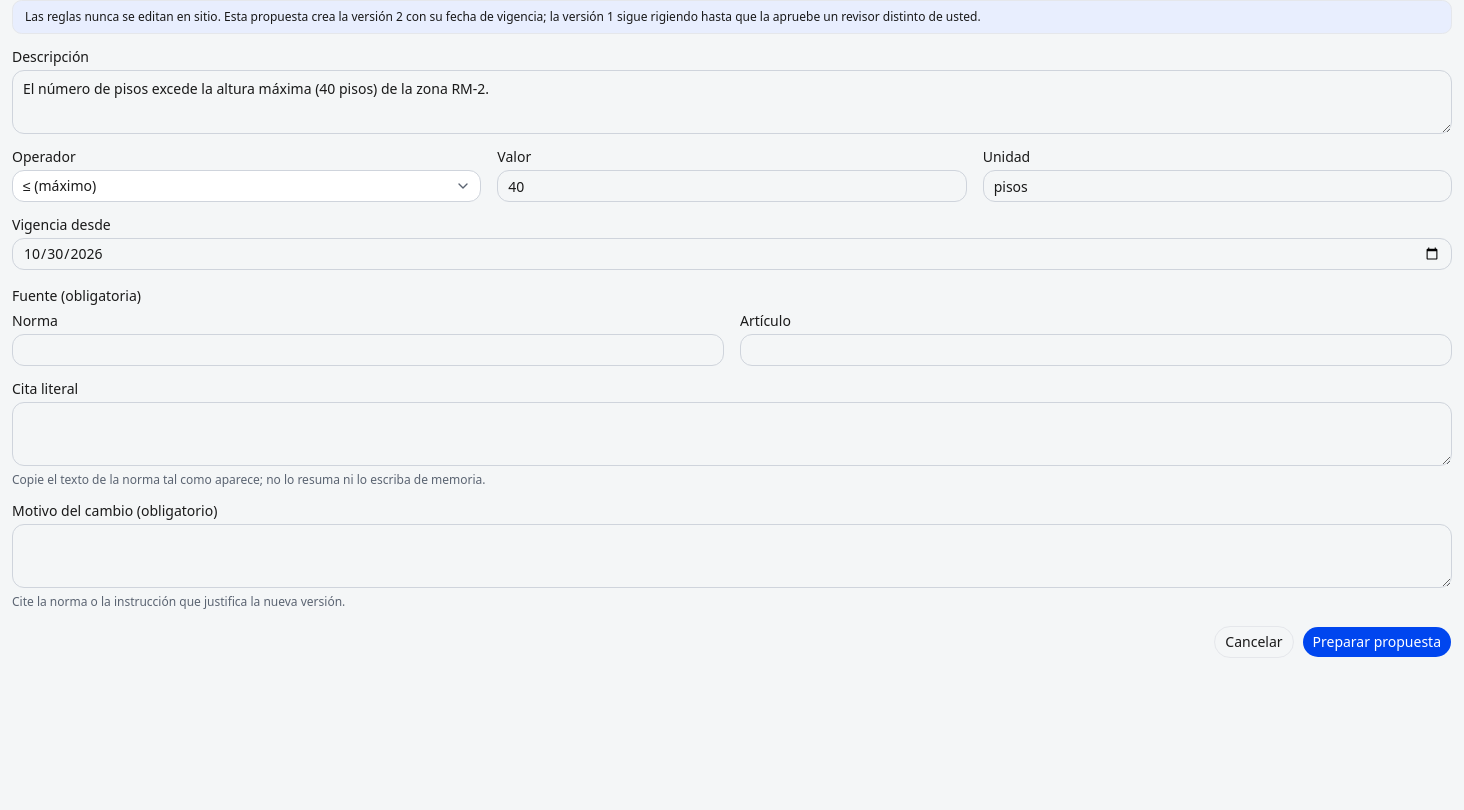
Test: RuleVersionForm › exige norma, artículo y cita literal y muestra los errores
Step 1. Type "Corrección tras revisión de la ficha RM-2, pág. 11." into the text box labelled "Motivo del cambio (obligatorio)" → (732, 556), box top-left (12, 524), bottom-right (1452, 588)
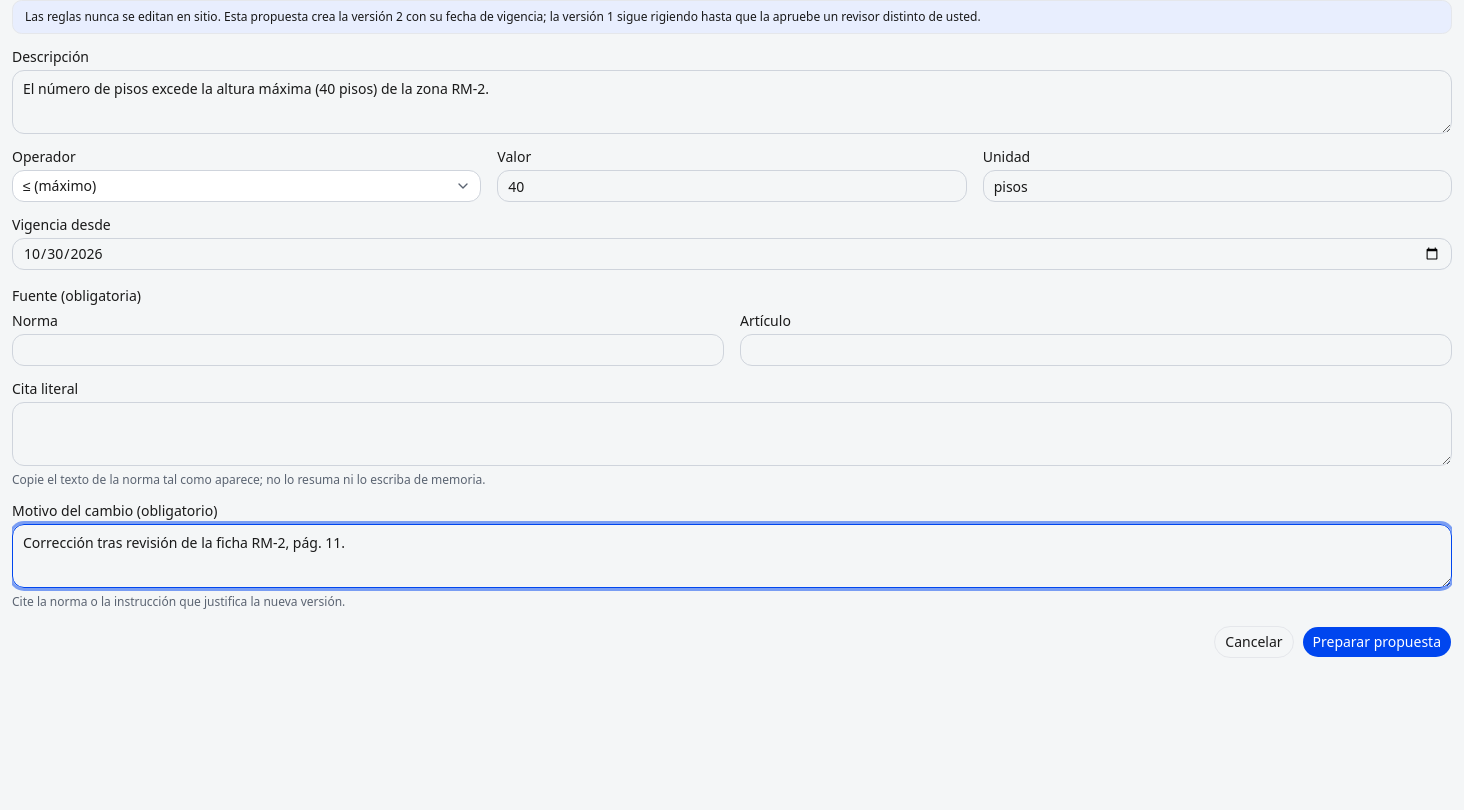
Step 2. Click the button "Preparar propuesta" → (1377, 642), box top-left (1302, 626), bottom-right (1452, 658)
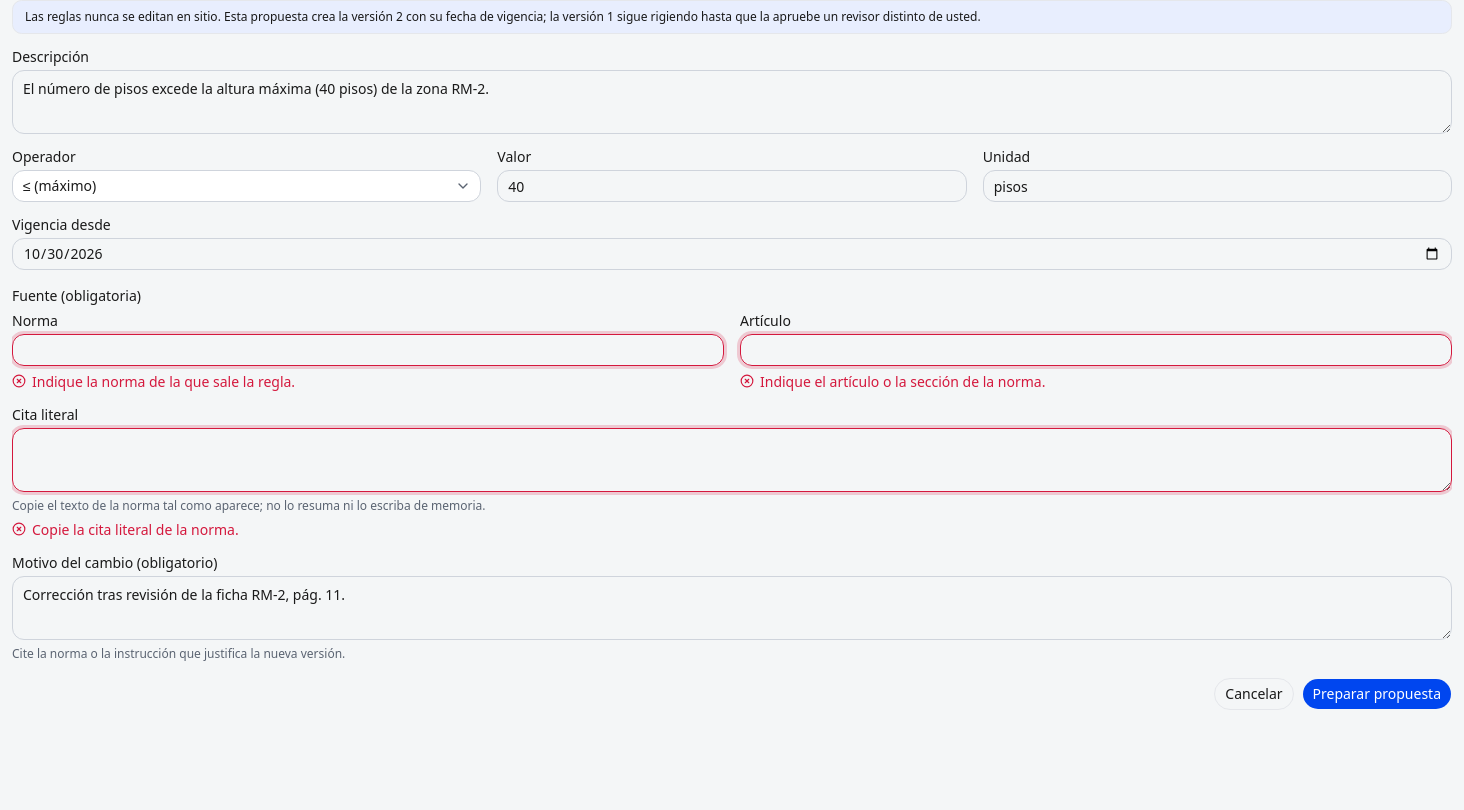
Expected: the text "Indique la norma de la que sale la regla." is shown, top-left (12, 372), bottom-right (295, 391)
Expected: the text "Indique el artículo o la sección de la norma." is shown, top-left (740, 372), bottom-right (1046, 391)
Expected: the text "Copie la cita literal de la norma." is shown, top-left (12, 520), bottom-right (239, 539)
